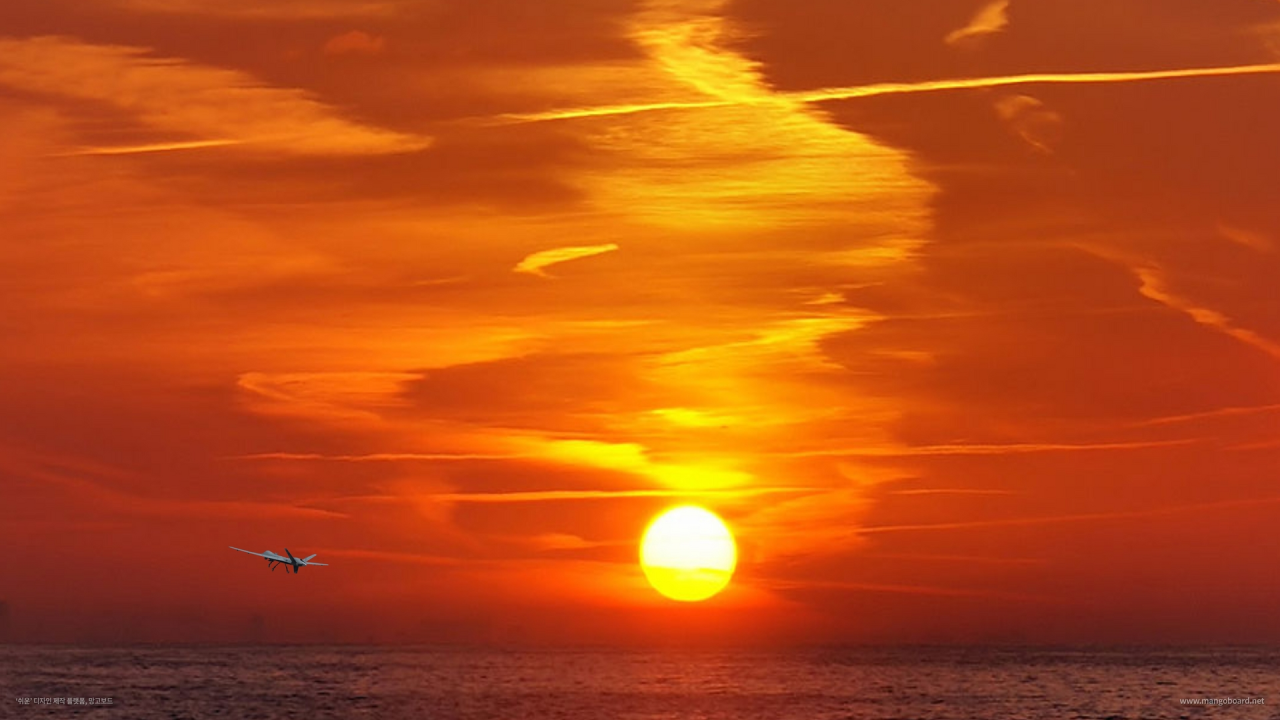military drone: (228, 544, 328, 575)
